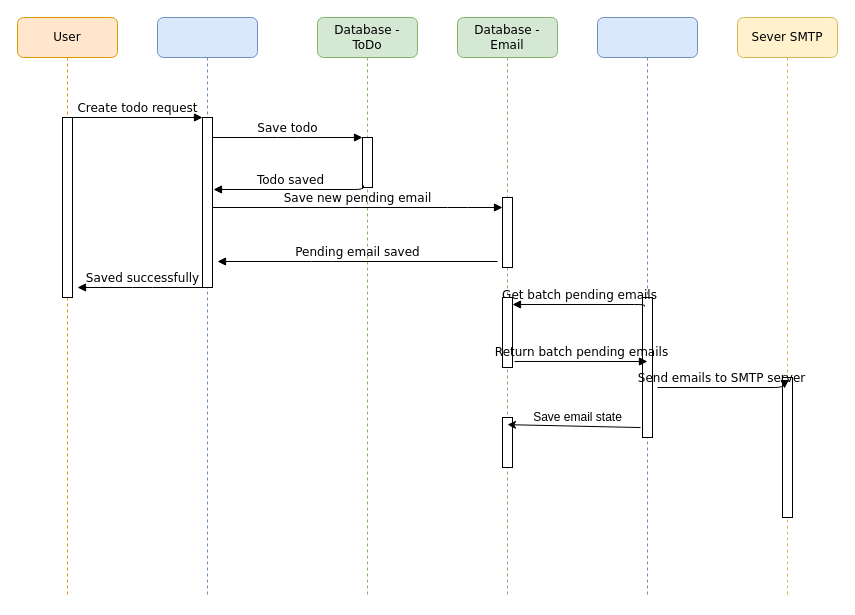
This 855x615 diagram has some shape labels left out. The shapes that lost their labels are listed below. From the top down, each one's box as (x1, y1, x2, y2) in pixels, then its label:
(156, 16, 258, 598): System
(596, 16, 698, 598): System - Email Scheduler
